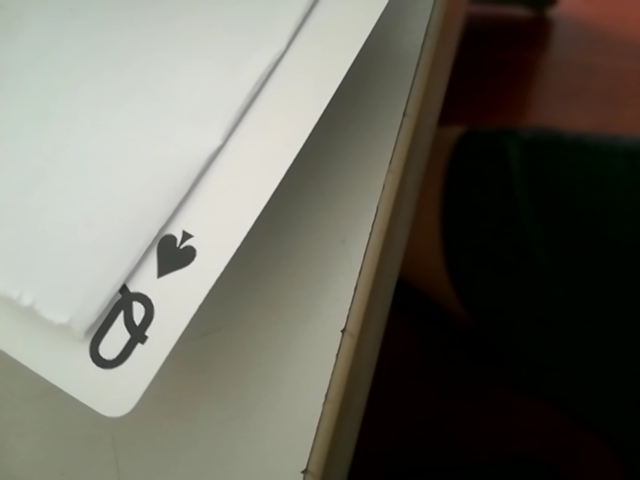ht q: (59, 195, 215, 410)
